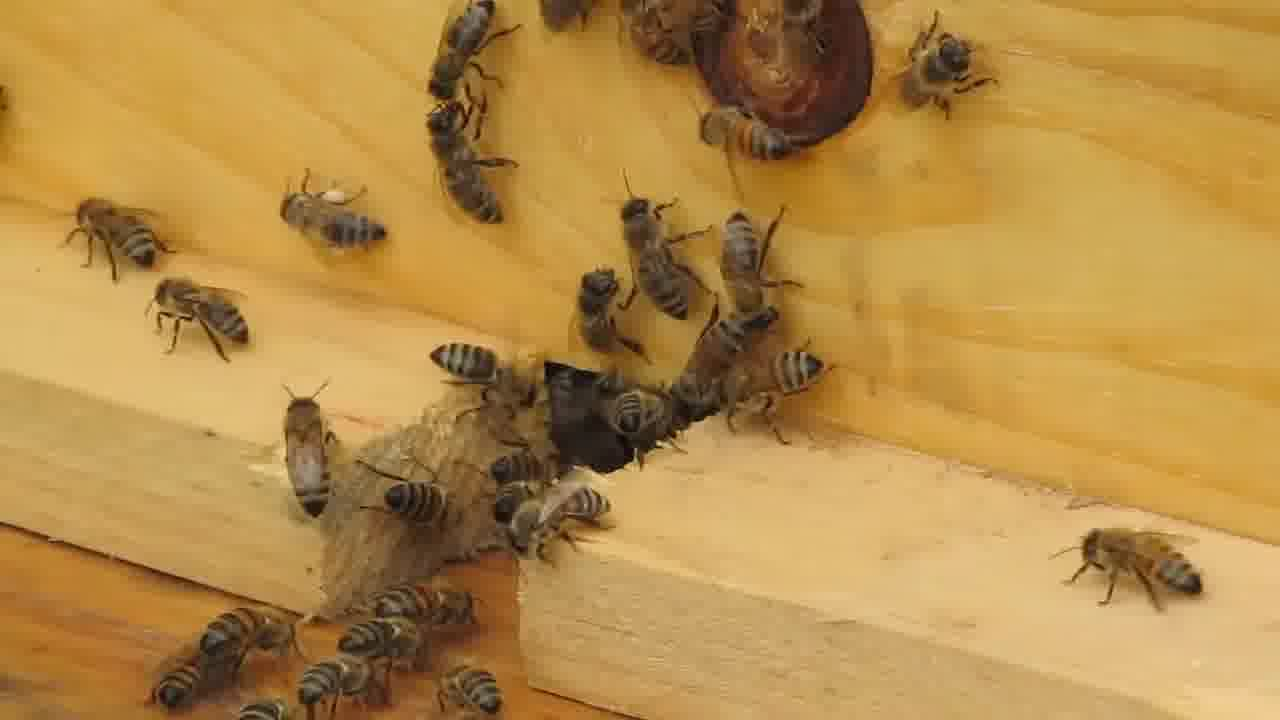pollen: (279, 170, 387, 266)
